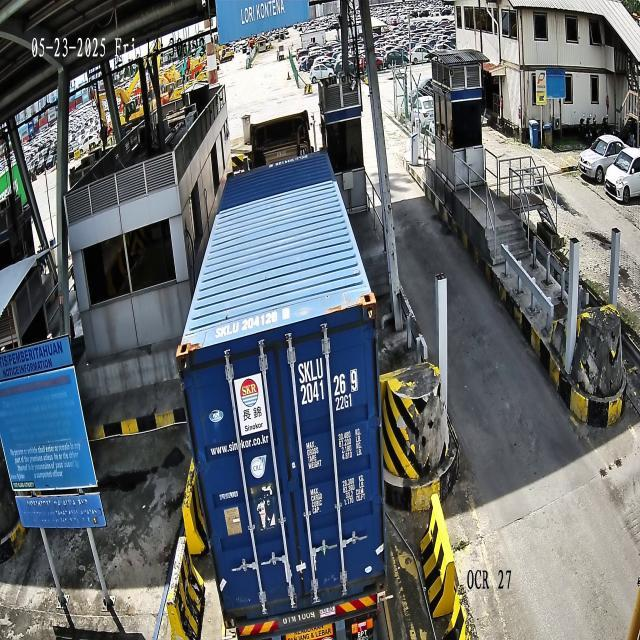ISO: (335, 392, 353, 413)
container_number: (298, 347, 358, 404)
